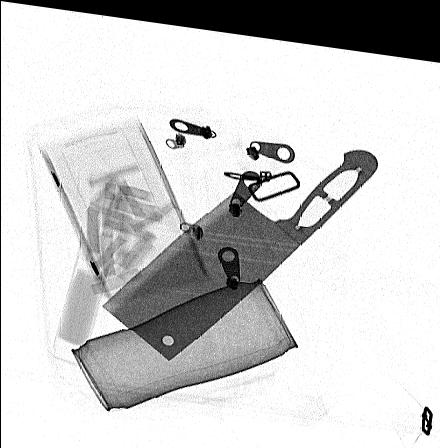Knife: (100, 137, 378, 356)
